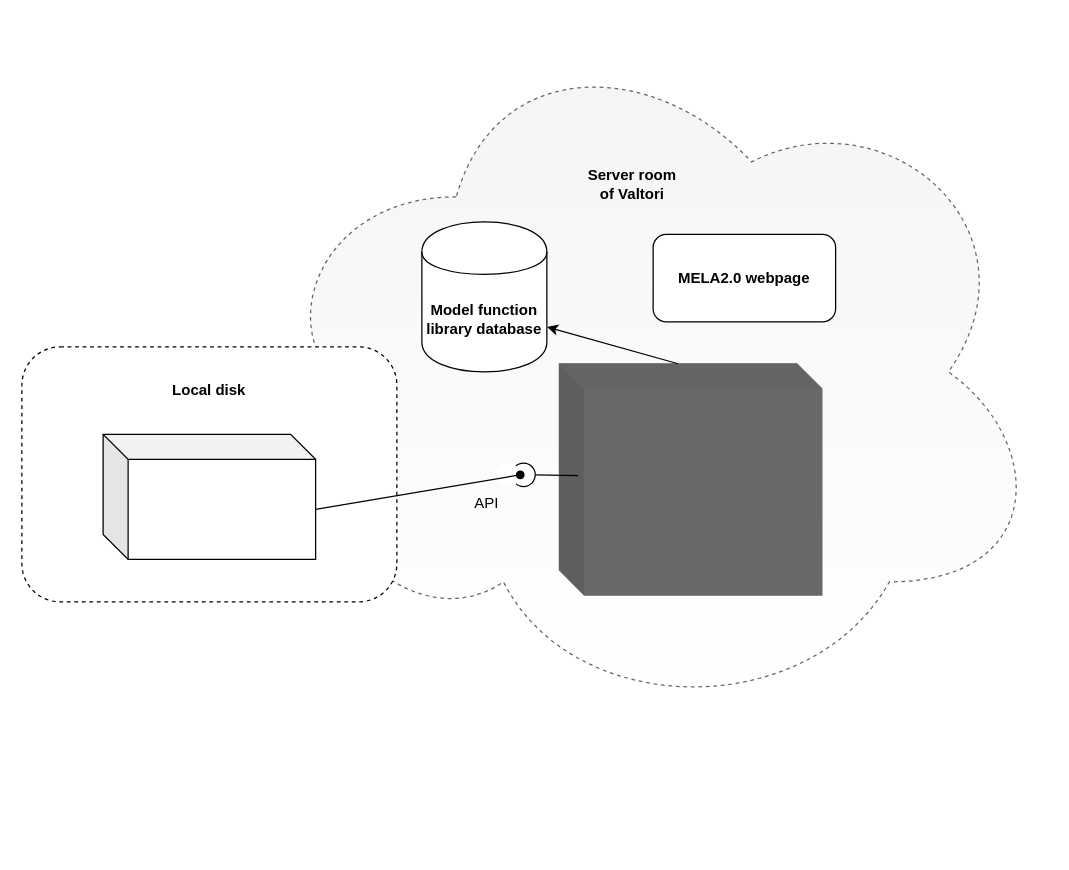
The diagram is 1069 pixels wide and 870 high, and some of its shapes have lost their labels. Each missing label, with the centre of its shape:
"MELA2.0" goes at pixel 690 478.
"User interface (Client application)" goes at pixel 209 496.
